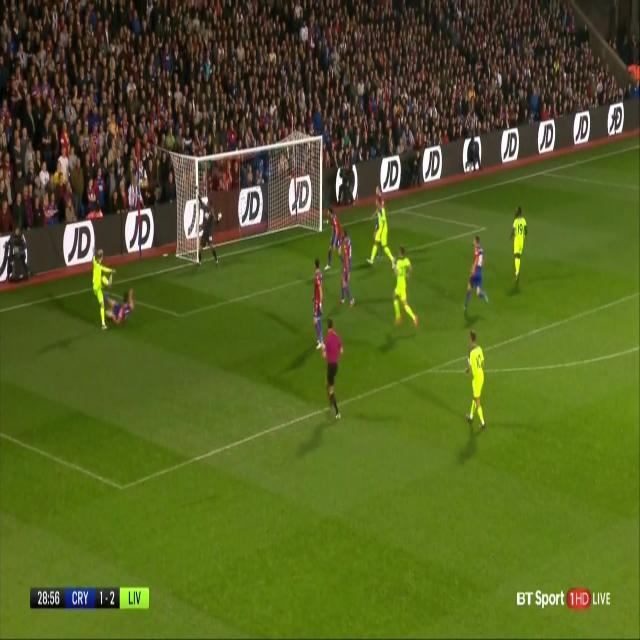Goalkeeper: (194, 186, 224, 270)
Player: (391, 238, 422, 330), (461, 229, 491, 316), (464, 332, 488, 433), (90, 248, 116, 333), (366, 200, 396, 270), (322, 204, 348, 272), (510, 204, 530, 288), (102, 285, 138, 331), (338, 231, 356, 313), (312, 258, 325, 350)
Referee: (321, 317, 347, 423)
